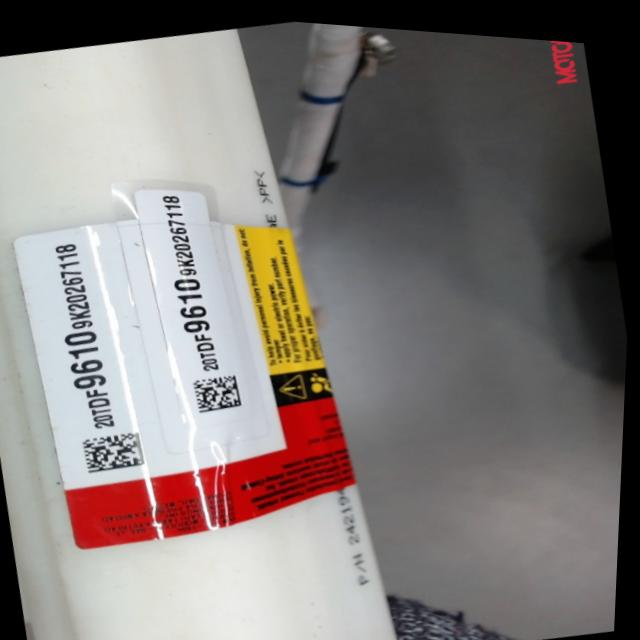datamatrix: (85, 425, 151, 475), (195, 368, 248, 412)
